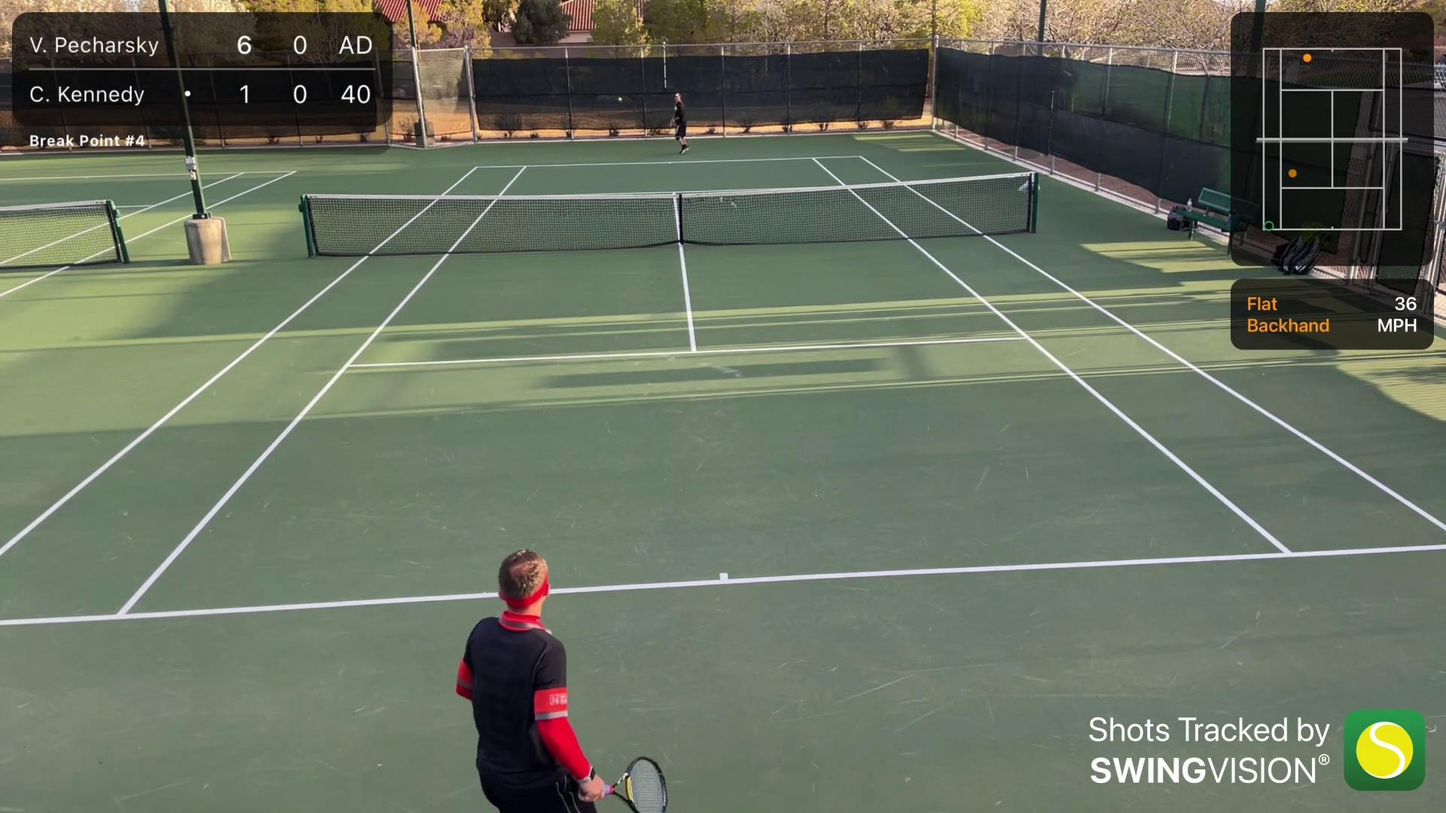ball: (617, 96, 624, 103)
